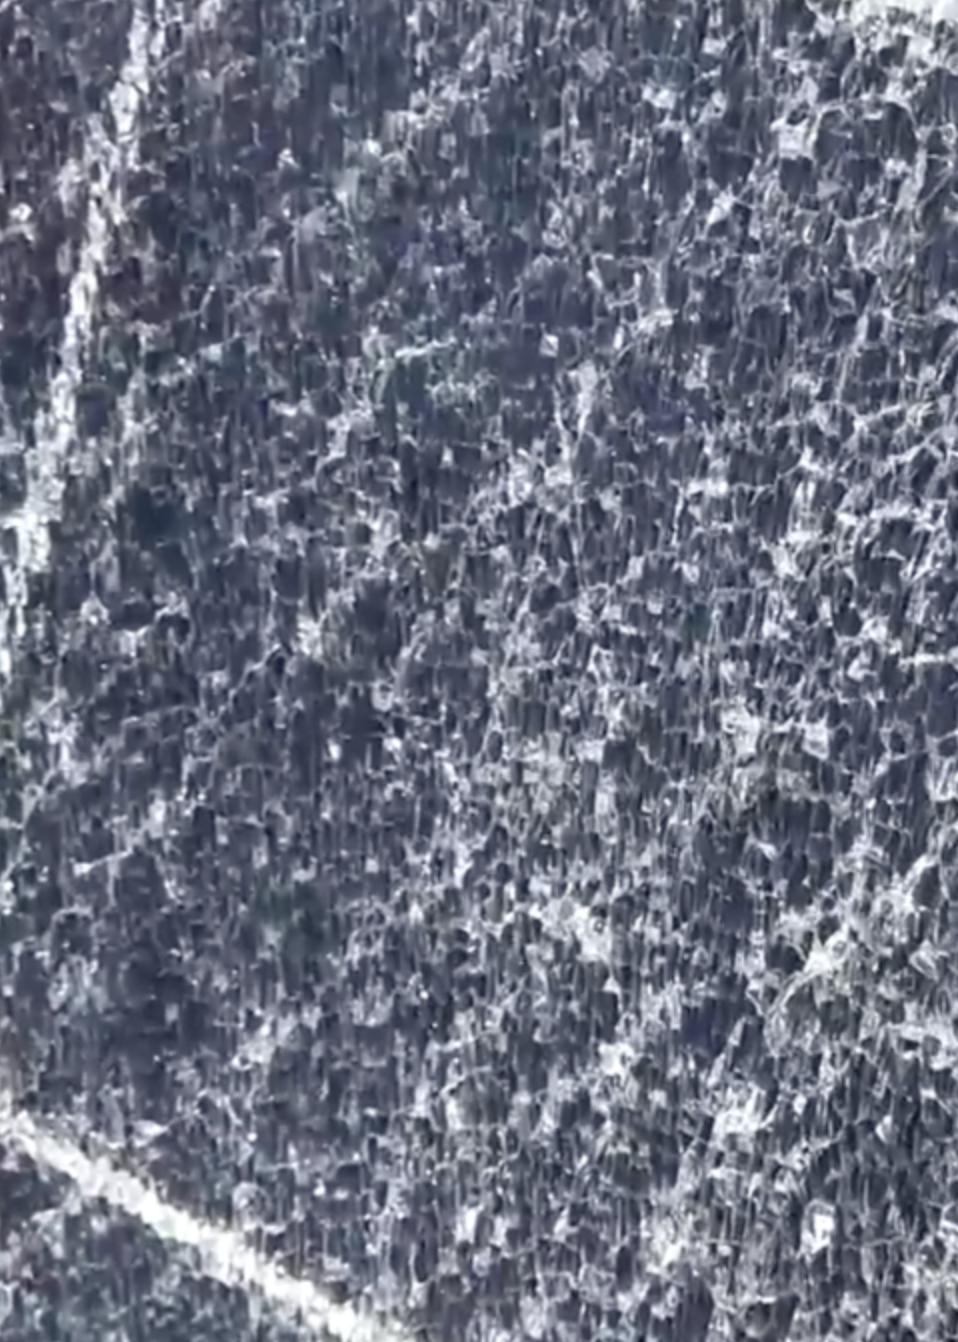Crack: (5, 3, 958, 1314)
